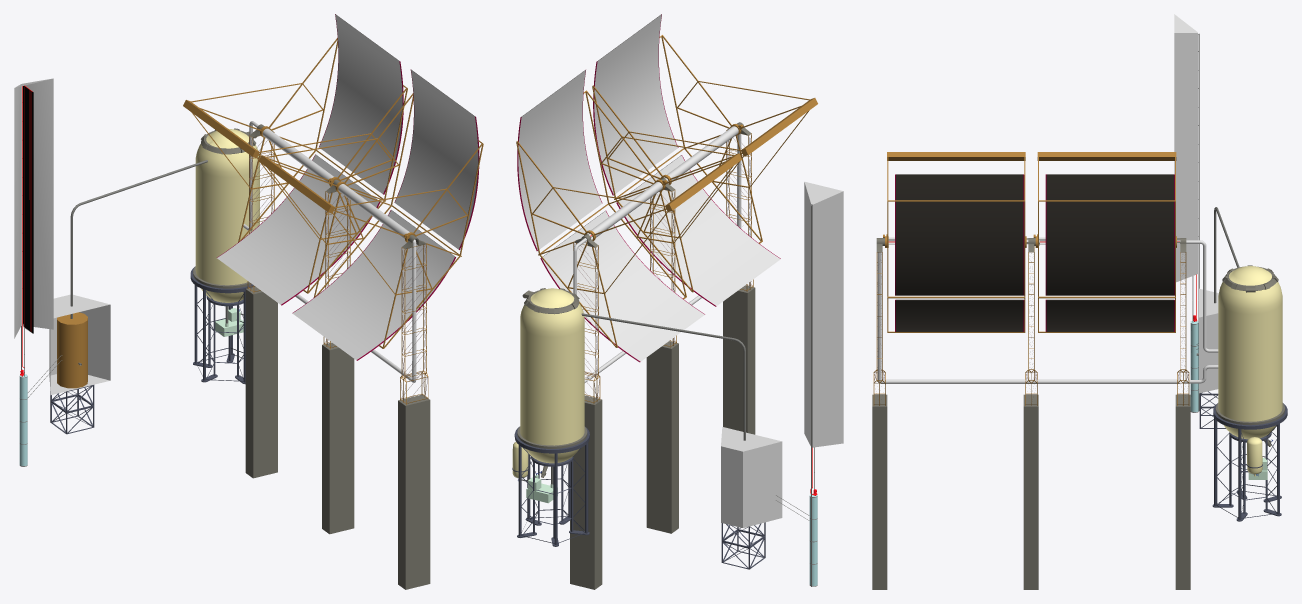
File: Molten_Soil_Reactor.glb
3 renders of one model, left to right at view 1: azimuth 30°, elevation 25°; view 2: azimuth 150°, elevation 25°; view 3: azimuth 270°, elevation 25°, orthographic.
Parts seen in each view (by area): view 1: MoltenSoilReactor_LOD0, MirrorTowerFrame-colonly.003, MirrorTowerFrame-colonly.005, MirrorTowerFrame-colonly.004; view 2: MoltenSoilReactor_LOD0, MirrorTowerFrame-colonly.004, MirrorTowerFrame-colonly.005, MirrorTowerFrame-colonly.003; view 3: MoltenSoilReactor_LOD0, MirrorTowerFrame-colonly.003, MirrorTowerFrame-colonly.005, MirrorTowerFrame-colonly.004.
Part boxes in pixels (x1=…): MoltenSoilReactor_LOD0: x1=14, y1=14, x2=483, y2=466; MirrorTowerFrame-colonly.003: x1=398, y1=394, x2=430, y2=589; MirrorTowerFrame-colonly.005: x1=245, y1=286, x2=277, y2=478; MirrorTowerFrame-colonly.004: x1=322, y1=342, x2=354, y2=534; MoltenSoilReactor_LOD0: x1=512, y1=14, x2=843, y2=586; MirrorTowerFrame-colonly.004: x1=646, y1=341, x2=678, y2=533; MirrorTowerFrame-colonly.005: x1=570, y1=395, x2=602, y2=589; MirrorTowerFrame-colonly.003: x1=723, y1=285, x2=755, y2=434; MoltenSoilReactor_LOD0: x1=873, y1=14, x2=1287, y2=521; MirrorTowerFrame-colonly.003: x1=872, y1=394, x2=887, y2=589; MirrorTowerFrame-colonly.005: x1=1175, y1=394, x2=1190, y2=589; MirrorTowerFrame-colonly.004: x1=1023, y1=394, x2=1038, y2=589.
Size of what is drawn, in the model's own units: 55.06 by 72.74 by 61.15.
